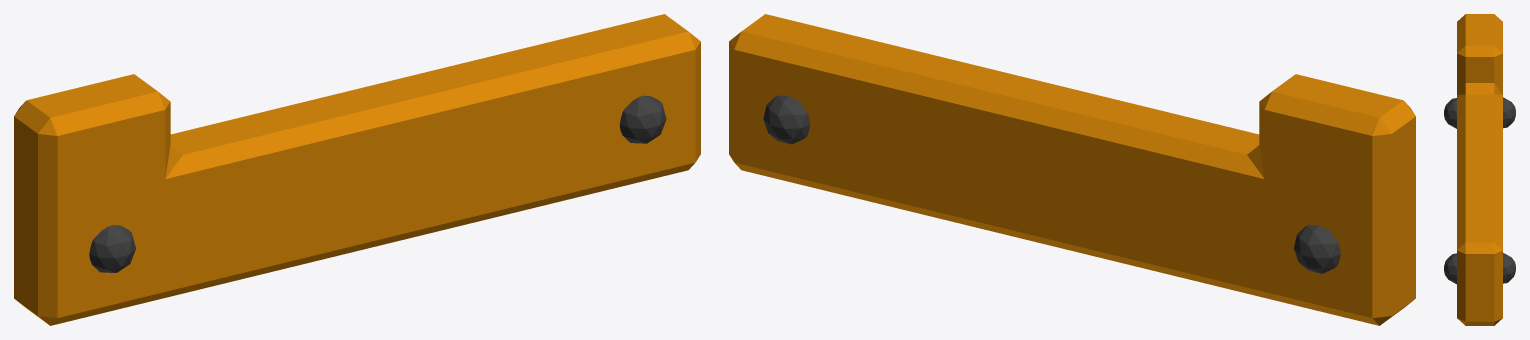
The model's file is BarLD.fbx.
3 views of the same model, side by side, from view 1: azimuth 30°, elevation 25°; view 2: azimuth 150°, elevation 25°; view 3: azimuth 270°, elevation 25° (orthographic). The views are drawn at different scales.
Visible parts, largest first — view 1: BarD; view 2: BarD; view 3: BarD.
Part boxes in pixels (x1=…): BarD: x1=14, y1=14, x2=700, y2=325; BarD: x1=729, y1=14, x2=1415, y2=325; BarD: x1=1444, y1=14, x2=1515, y2=325.
Bounding box in the file's own units: 1000 × 300 × 157.
